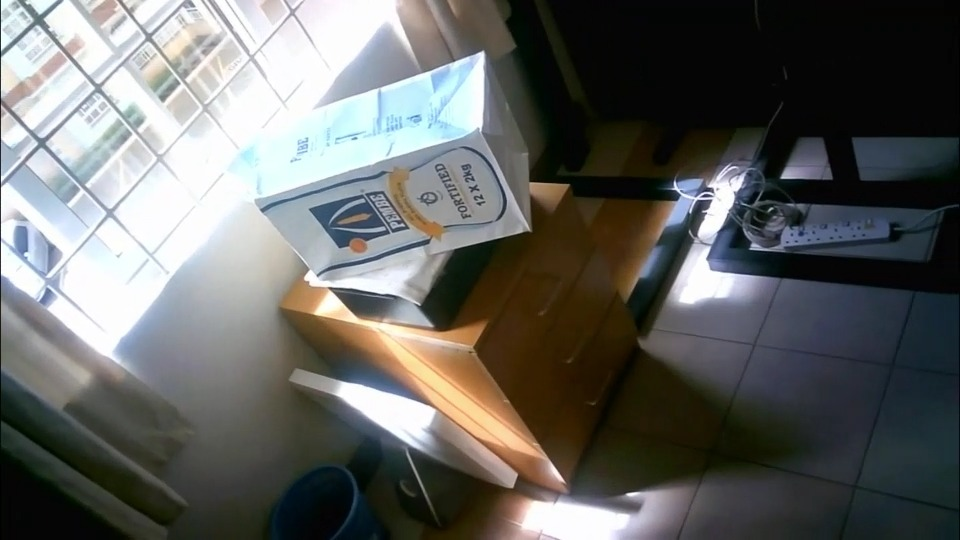wheat_flour_blue_label: (247, 51, 533, 279)
